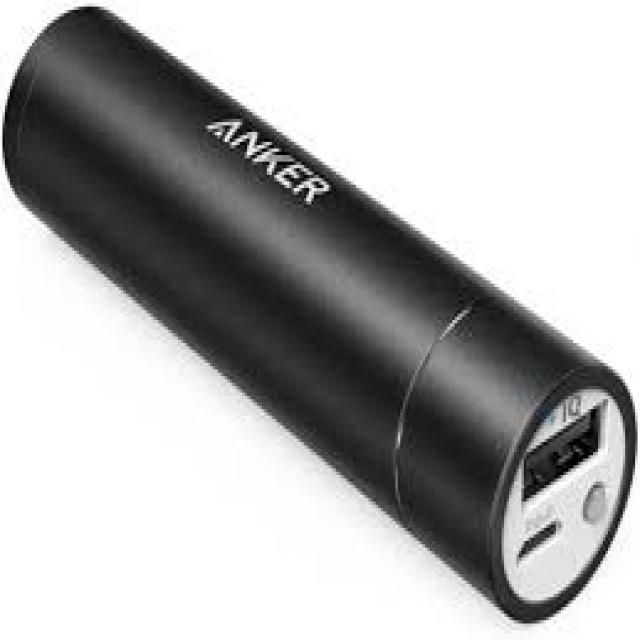non-organic waste: (0, 0, 638, 624)
